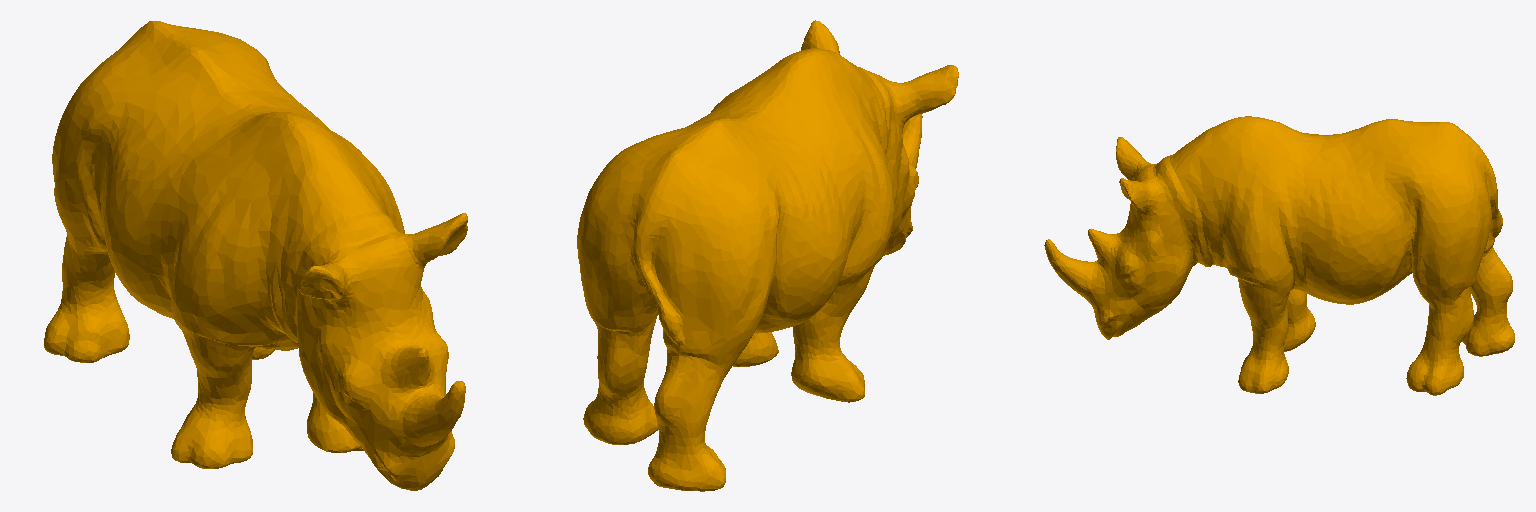
URDF robot description (28mwabnr):
<?xml version='1.0'?>

<robot name="28mwabnr">
    <static>false</static>
    <link name="link">
        <inertial>
            <mass value="0.1682931648509146"/>
            <inertia ixx="0.00015321715632097806" ixy="1.0502428705853002e-06" ixz="5.214553717967895e-07"
                     iyy="5.243629559887067e-05" iyz="-5.313814123834391e-06" izz="0.00013799363503074193"/>
        </inertial>
        <collision name="collision">
            <geometry>
                <mesh filename="package://miscnet/train/28mwabnr/collision_model_vhacd.obj"/>
            </geometry>
        </collision>
        <visual name="visual">
            <geometry>
                <mesh filename="package://miscnet/train/28mwabnr/visual_model.obj"/>
            </geometry>
        </visual>
    </link>
</robot>

--- Render facts (derived) ---
The picture shows the robot from 3 angles, left to right: view 1: azimuth 30°, elevation 25°; view 2: azimuth 150°, elevation 25°; view 3: azimuth 270°, elevation 25°; orthographic projection.
Robot: 28mwabnr — 1 links, 0 joints (none); root link link; default pose: every joint at zero.
Links seen in each view (by area): view 1: link; view 2: link; view 3: link.
Boxes of the visible links, x1,y1,x2,y2 form: link: (44, 21, 467, 490); link: (577, 20, 958, 491); link: (1044, 116, 1514, 395).
Bounding box of the posed robot: 0.0489 × 0.1251 × 0.0715 m (x, y, z).
1 mesh visuals loaded from 1 distinct referenced files (1 OBJ).
